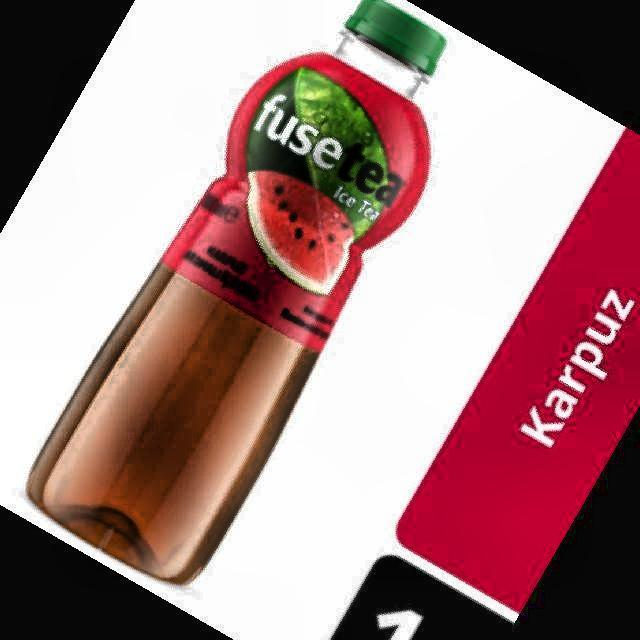plastic: (29, 0, 445, 582)
